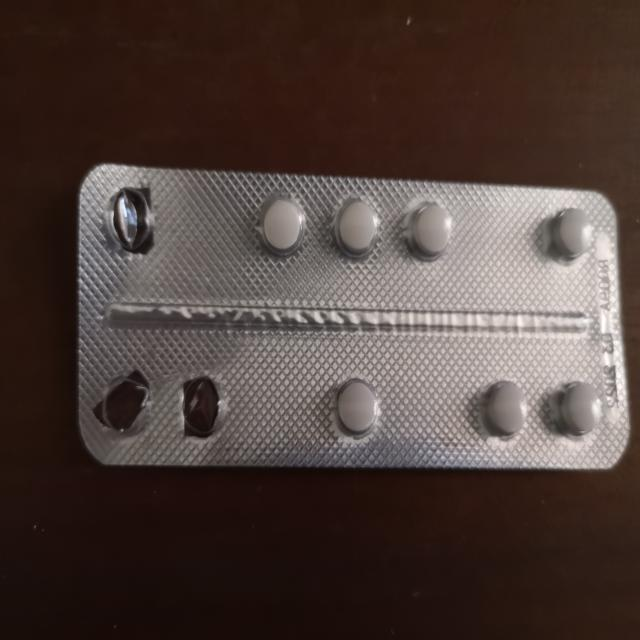Empty: (95, 178, 167, 264), (87, 361, 153, 441), (172, 370, 232, 440)
Pill: (327, 369, 388, 445), (398, 196, 462, 266), (552, 367, 608, 444), (326, 190, 382, 266), (476, 369, 532, 443), (256, 192, 312, 264), (545, 197, 599, 271)
